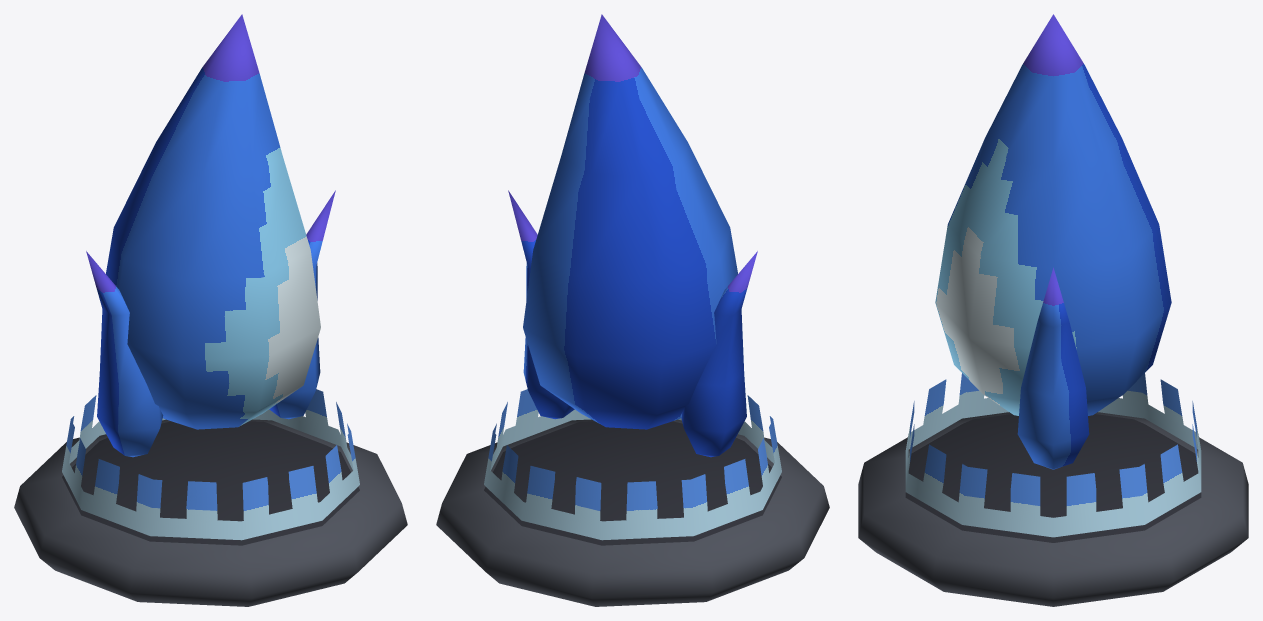
File: moreA-gasFlame.glb
3 renders of one model, left to right at view 1: azimuth 30°, elevation 25°; view 2: azimuth 150°, elevation 25°; view 3: azimuth 270°, elevation 25°, orthographic. The views are drawn at different scales.
Parts seen in each view (by area): view 1: moreA.gasFlame; view 2: moreA.gasFlame; view 3: moreA.gasFlame.
Boxes of the visible parts, x1=… form: moreA.gasFlame: x1=14, y1=14, x2=407, y2=606; moreA.gasFlame: x1=436, y1=14, x2=829, y2=606; moreA.gasFlame: x1=858, y1=14, x2=1248, y2=606.
Size of the model in its own units: 1.18 by 1.69 by 1.13.
Materials: 5 (5 with a texture image).
